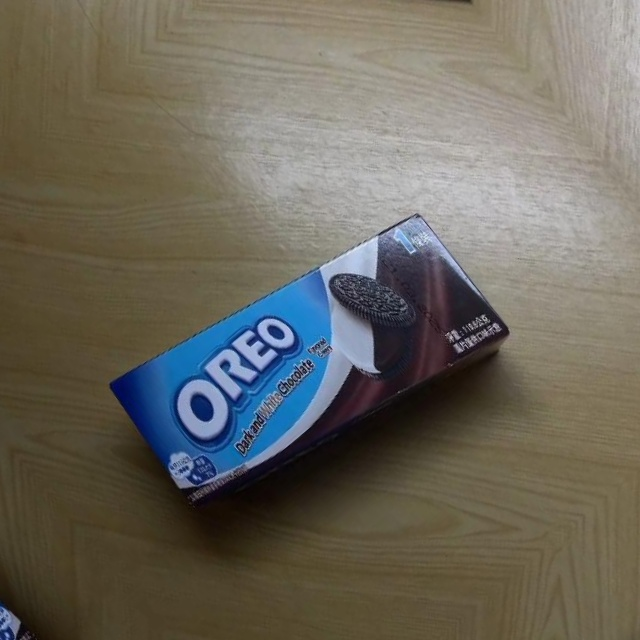Oreo: (93, 159, 517, 565)
